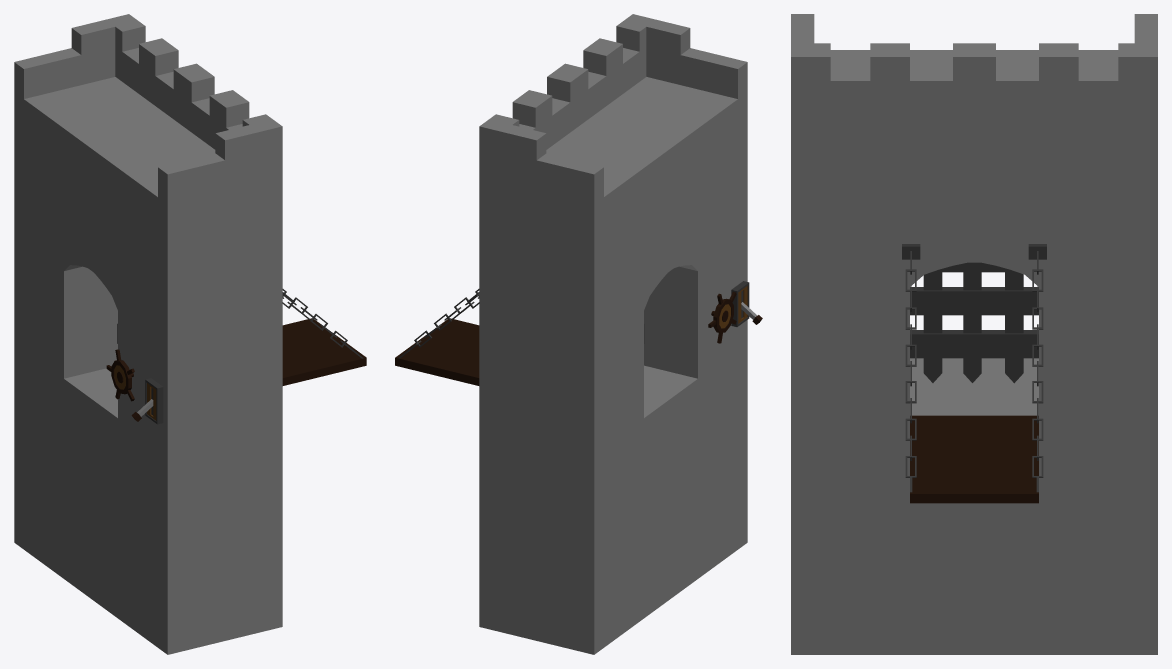
Rendered from Входная дверь.FBX.
3 renders of one model, left to right at view 1: azimuth 30°, elevation 25°; view 2: azimuth 150°, elevation 25°; view 3: azimuth 270°, elevation 25°, orthographic. The views are drawn at different scales.
Visible parts, largest first — view 1: Стена, Мост, Колесо, штука под рычаг, Цепи; view 2: Стена, Мост, Колесо, штука под рычаг; view 3: Стена, Мост, Ворота, Цепи, Держатель.
Part boxes in pixels (bbox=[...]): Стена: bbox=[14, 14, 282, 654]; Мост: bbox=[282, 318, 366, 385]; Колесо: bbox=[106, 349, 134, 401]; штука под рычаг: bbox=[145, 378, 163, 424]; Цепи: bbox=[282, 289, 363, 358]; Стена: bbox=[479, 14, 747, 654]; Мост: bbox=[395, 318, 479, 385]; Колесо: bbox=[708, 291, 736, 343]; штука под рычаг: bbox=[731, 281, 749, 326]; Стена: bbox=[791, 14, 1157, 654]; Мост: bbox=[910, 415, 1038, 503]; Ворота: bbox=[910, 262, 1038, 383]; Цепи: bbox=[905, 251, 1043, 492]; Держатель: bbox=[902, 244, 1046, 259].
Bounding box in the file's own units: 143 × 250 × 139.
